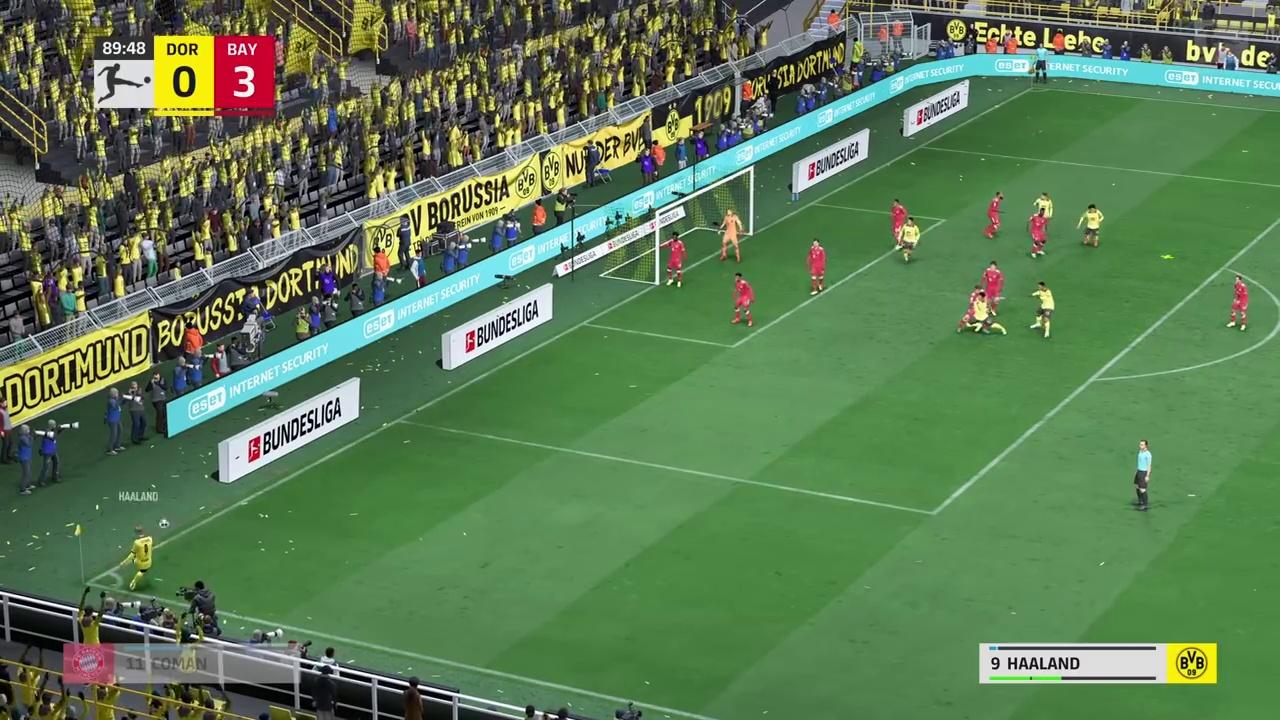scoreboard: (157, 37, 277, 115)
timestamp: (97, 36, 154, 56)
